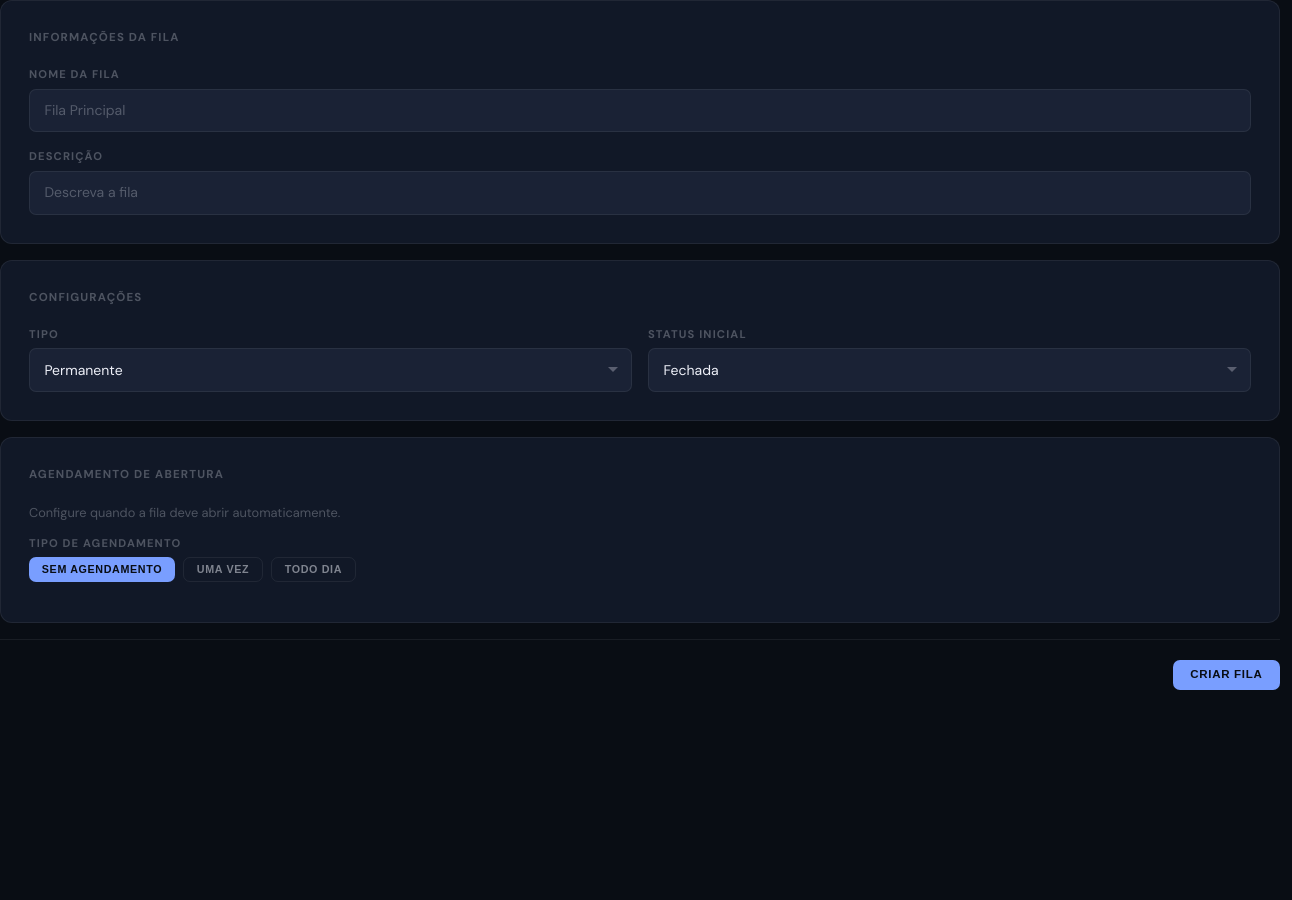
Test: CreateQueueForm › shows datetime picker when 'uma vez' is selected
What coordinates should you click on to do the following:
click the button "Uma vez"
I would click on:
 (223, 570)
Its box is [183, 557, 263, 582].
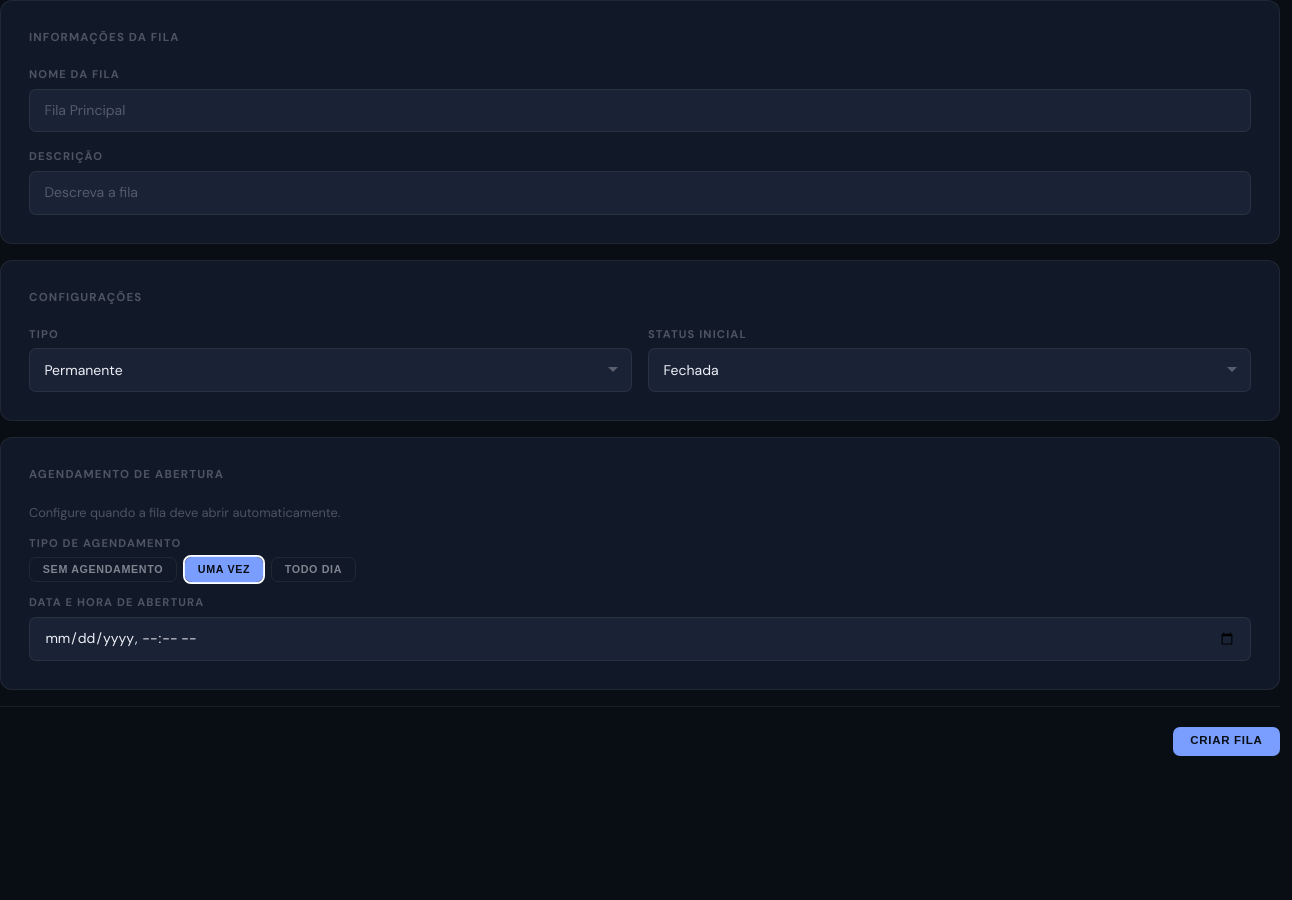
expect the field labelled "Data e hora de abertura" is shown: met, box [29, 617, 1251, 661]
